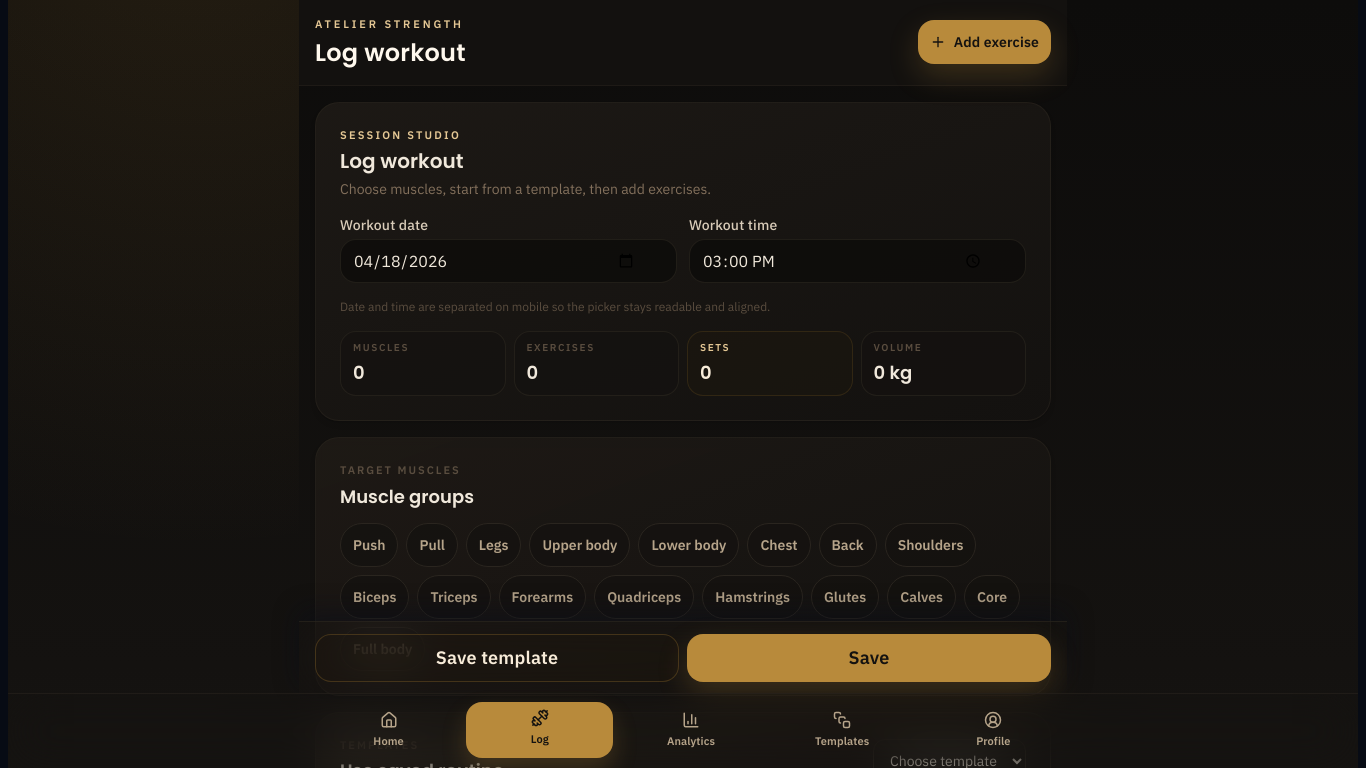
Test case: LogWorkoutPage › shows validation message when saving without exercises
Click the button "Save": coordinates (869, 658) [687,634,1051,682]
(page scrolled)
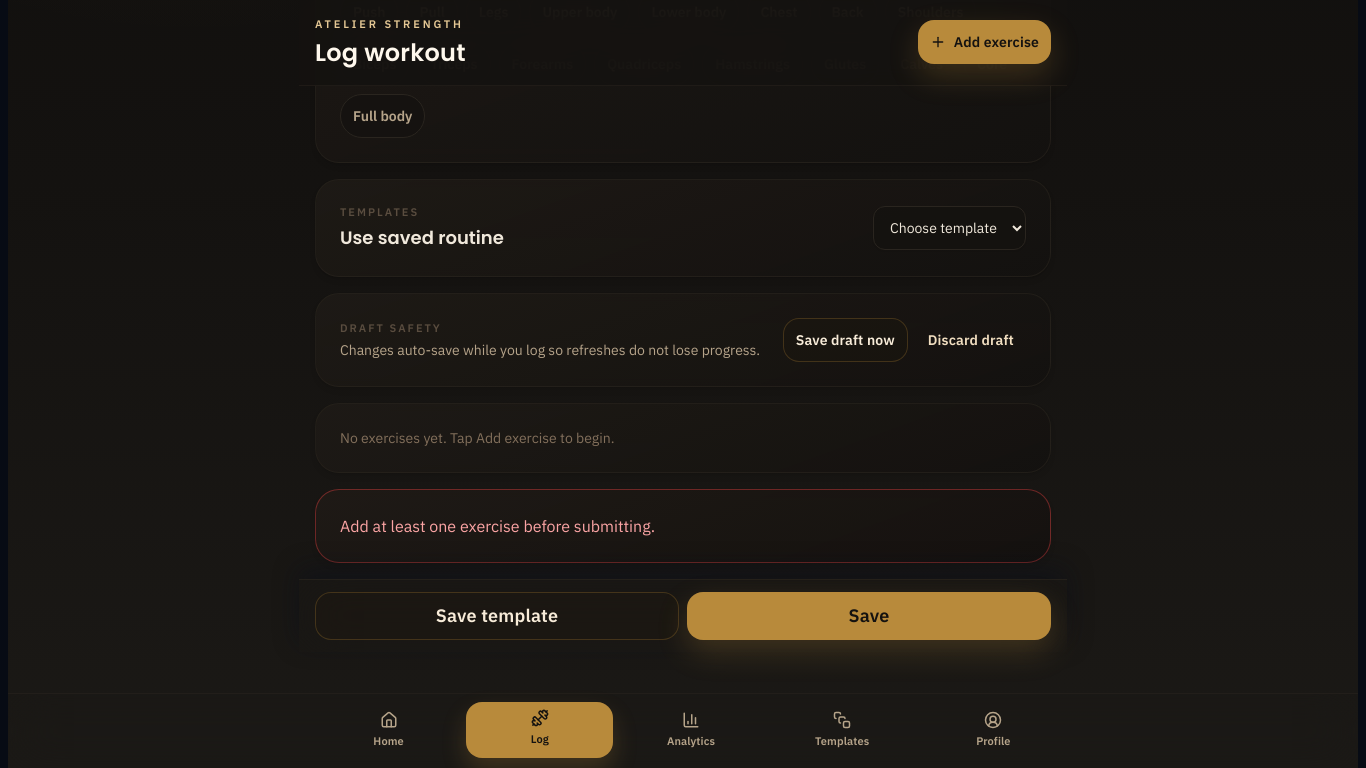
Check: the text "Add at least one exercise before submitting." is shown, box [340,514,655,538]
